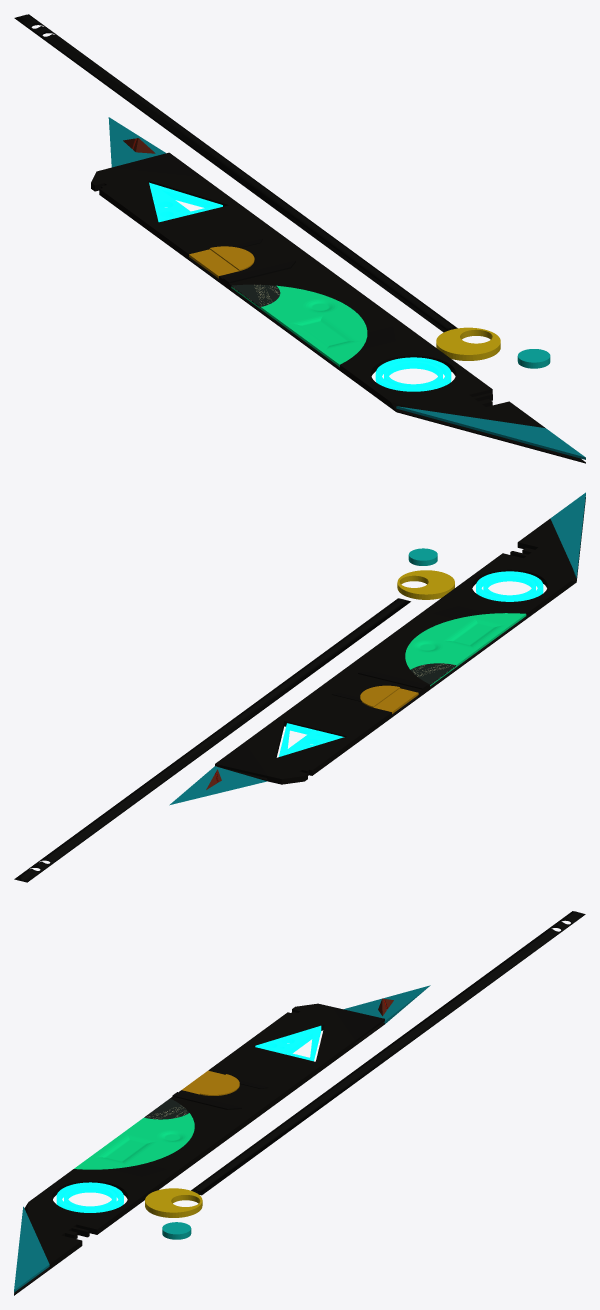
File: skyboard_A.glb
3 views of the same model, one above another, from view 1: azimuth 30°, elevation 25°; view 2: azimuth 150°, elevation 25°; view 3: azimuth 330°, elevation 25° (orthographic). The views are drawn at different scales.
Visible parts, largest first — view 1: deck, staff, ornament, dart; view 2: deck, staff, ornament, dart; view 3: deck, staff, ornament, dart.
Part boxes in pixels (x1=…): deck: x1=91, y1=117, x2=585, y2=463; staff: x1=14, y1=14, x2=550, y2=368; ornament: x1=123, y1=138, x2=367, y2=366; dart: x1=149, y1=182, x2=451, y2=391; deck: x1=169, y1=492, x2=585, y2=805; staff: x1=14, y1=548, x2=454, y2=882; ornament: x1=206, y1=613, x2=526, y2=789; dart: x1=279, y1=571, x2=543, y2=756; deck: x1=14, y1=985, x2=430, y2=1295; staff: x1=145, y1=911, x2=585, y2=1239; ornament: x1=74, y1=998, x2=393, y2=1169; dart: x1=56, y1=1025, x2=321, y2=1212.
Bounding box in the file's own units: 6.07 × 0.5065 × 37.31.
